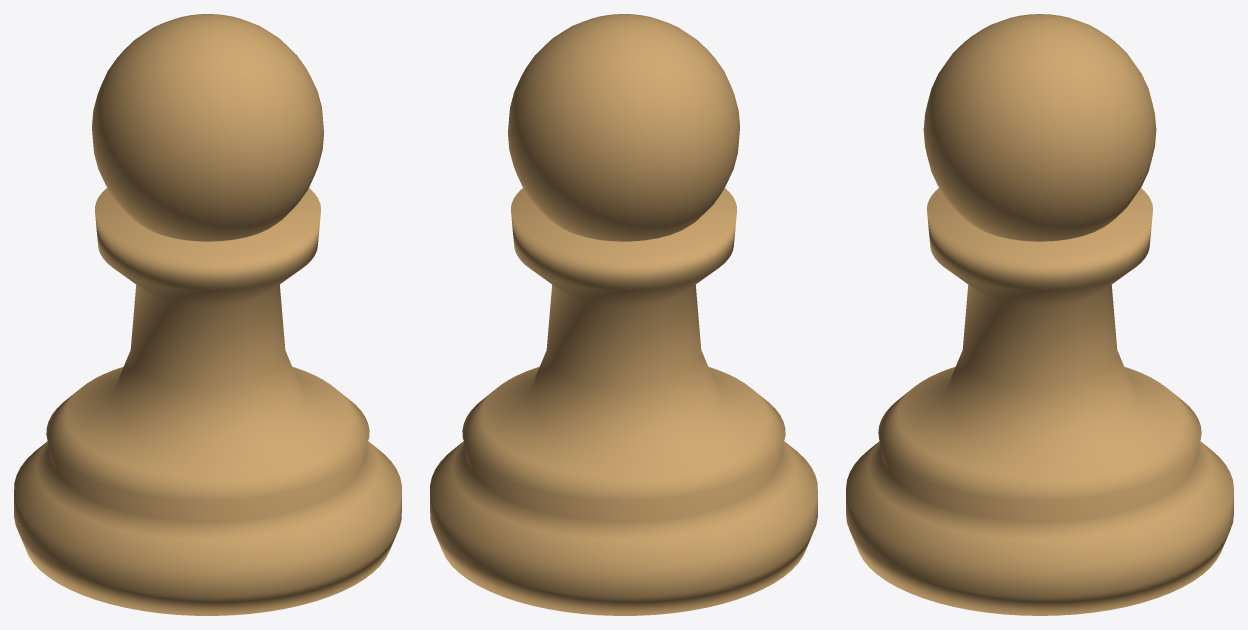
The model's file is pawn.glb.
3 views of the same model, side by side, from view 1: azimuth 30°, elevation 25°; view 2: azimuth 150°, elevation 25°; view 3: azimuth 270°, elevation 25° (orthographic).
Size of the model in its own units: 1.2 by 1.75 by 1.2.
